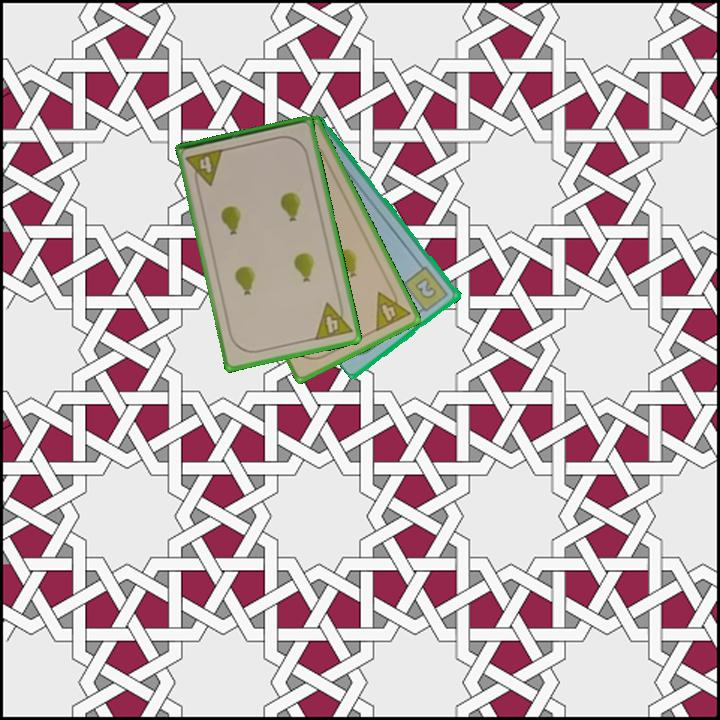2b: (401, 263, 452, 317)
4p: (372, 282, 413, 334), (311, 297, 355, 343), (183, 145, 227, 191)
